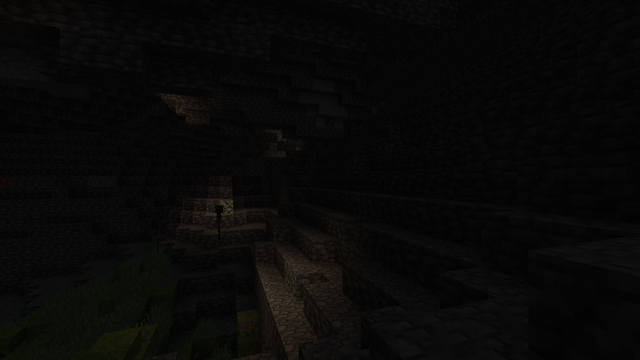endermens: (214, 203, 223, 245)
